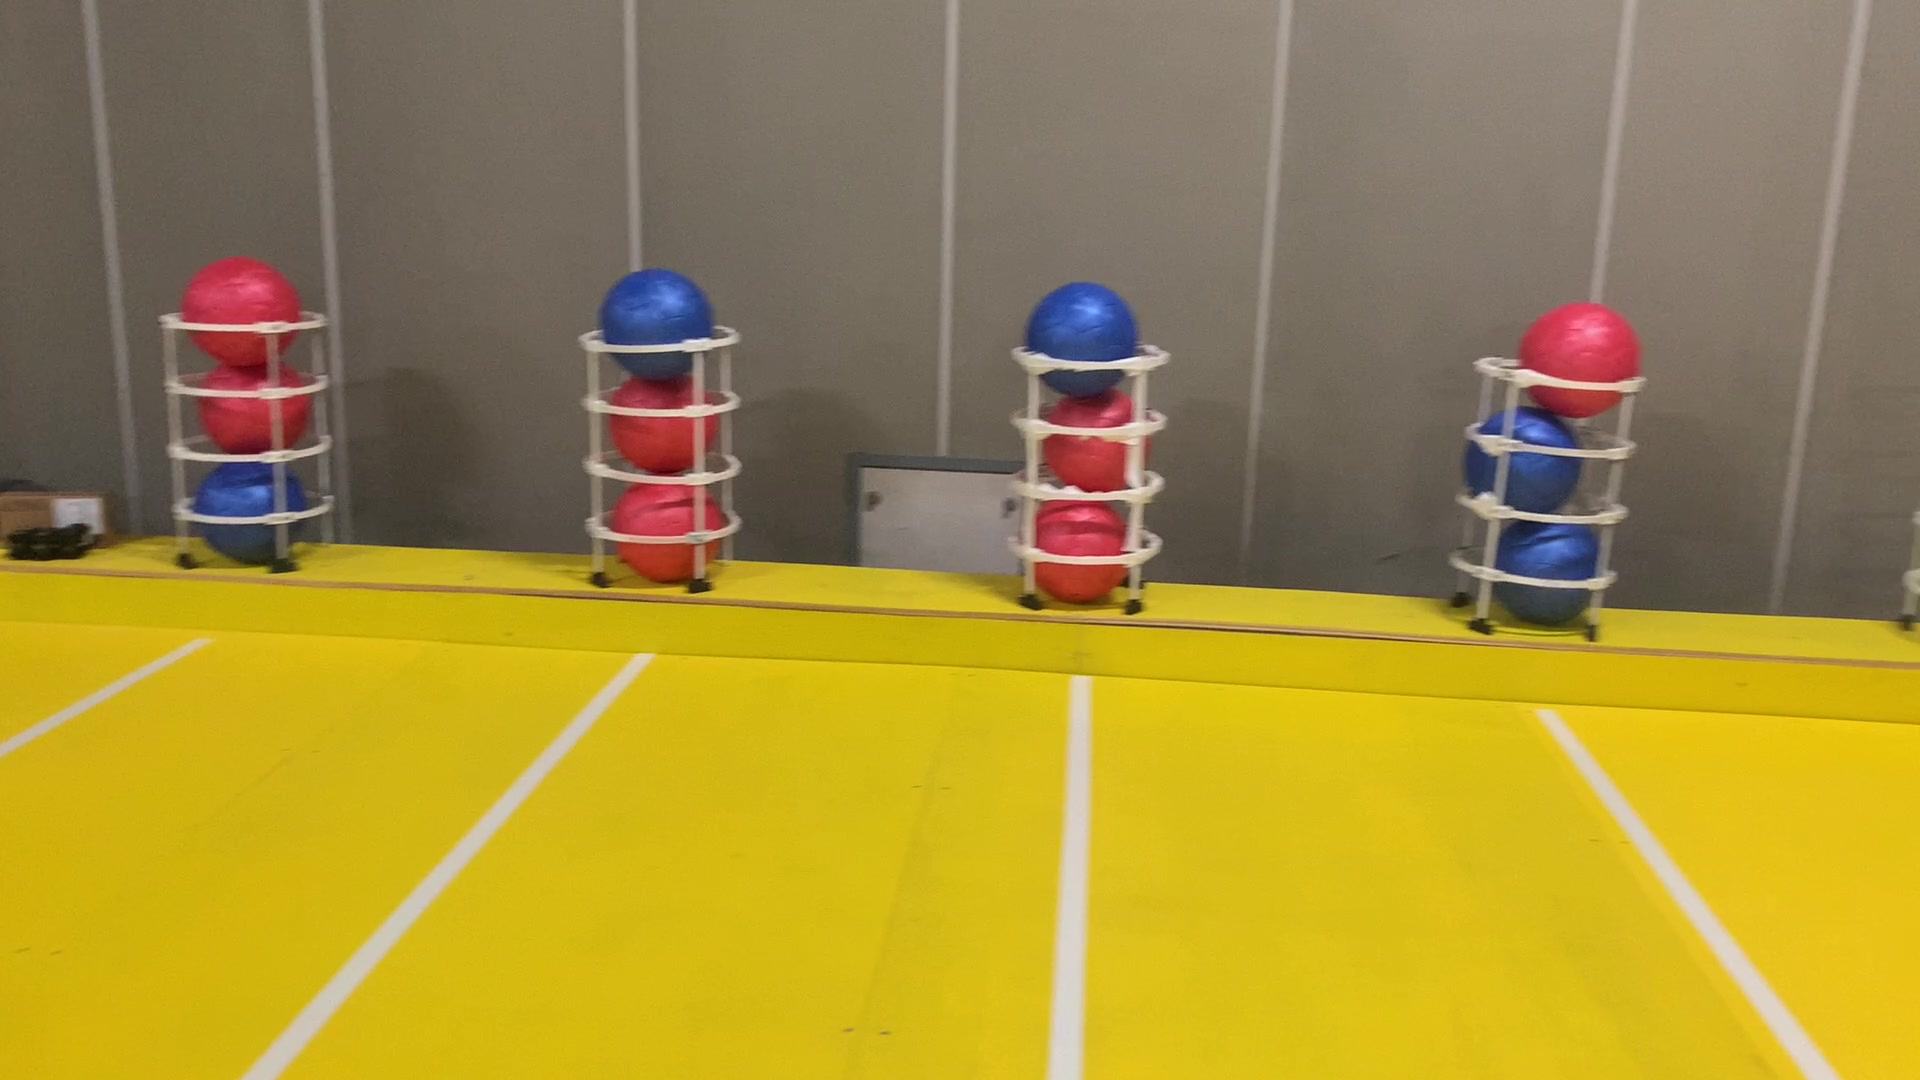blue: (1484, 496, 1618, 630), (1458, 393, 1588, 518), (596, 261, 724, 382), (1026, 277, 1154, 398), (200, 452, 311, 567)
red: (1518, 291, 1650, 418), (593, 357, 725, 480), (609, 471, 731, 599), (175, 252, 307, 367), (195, 352, 311, 480), (1030, 382, 1158, 493), (1017, 487, 1135, 599)
